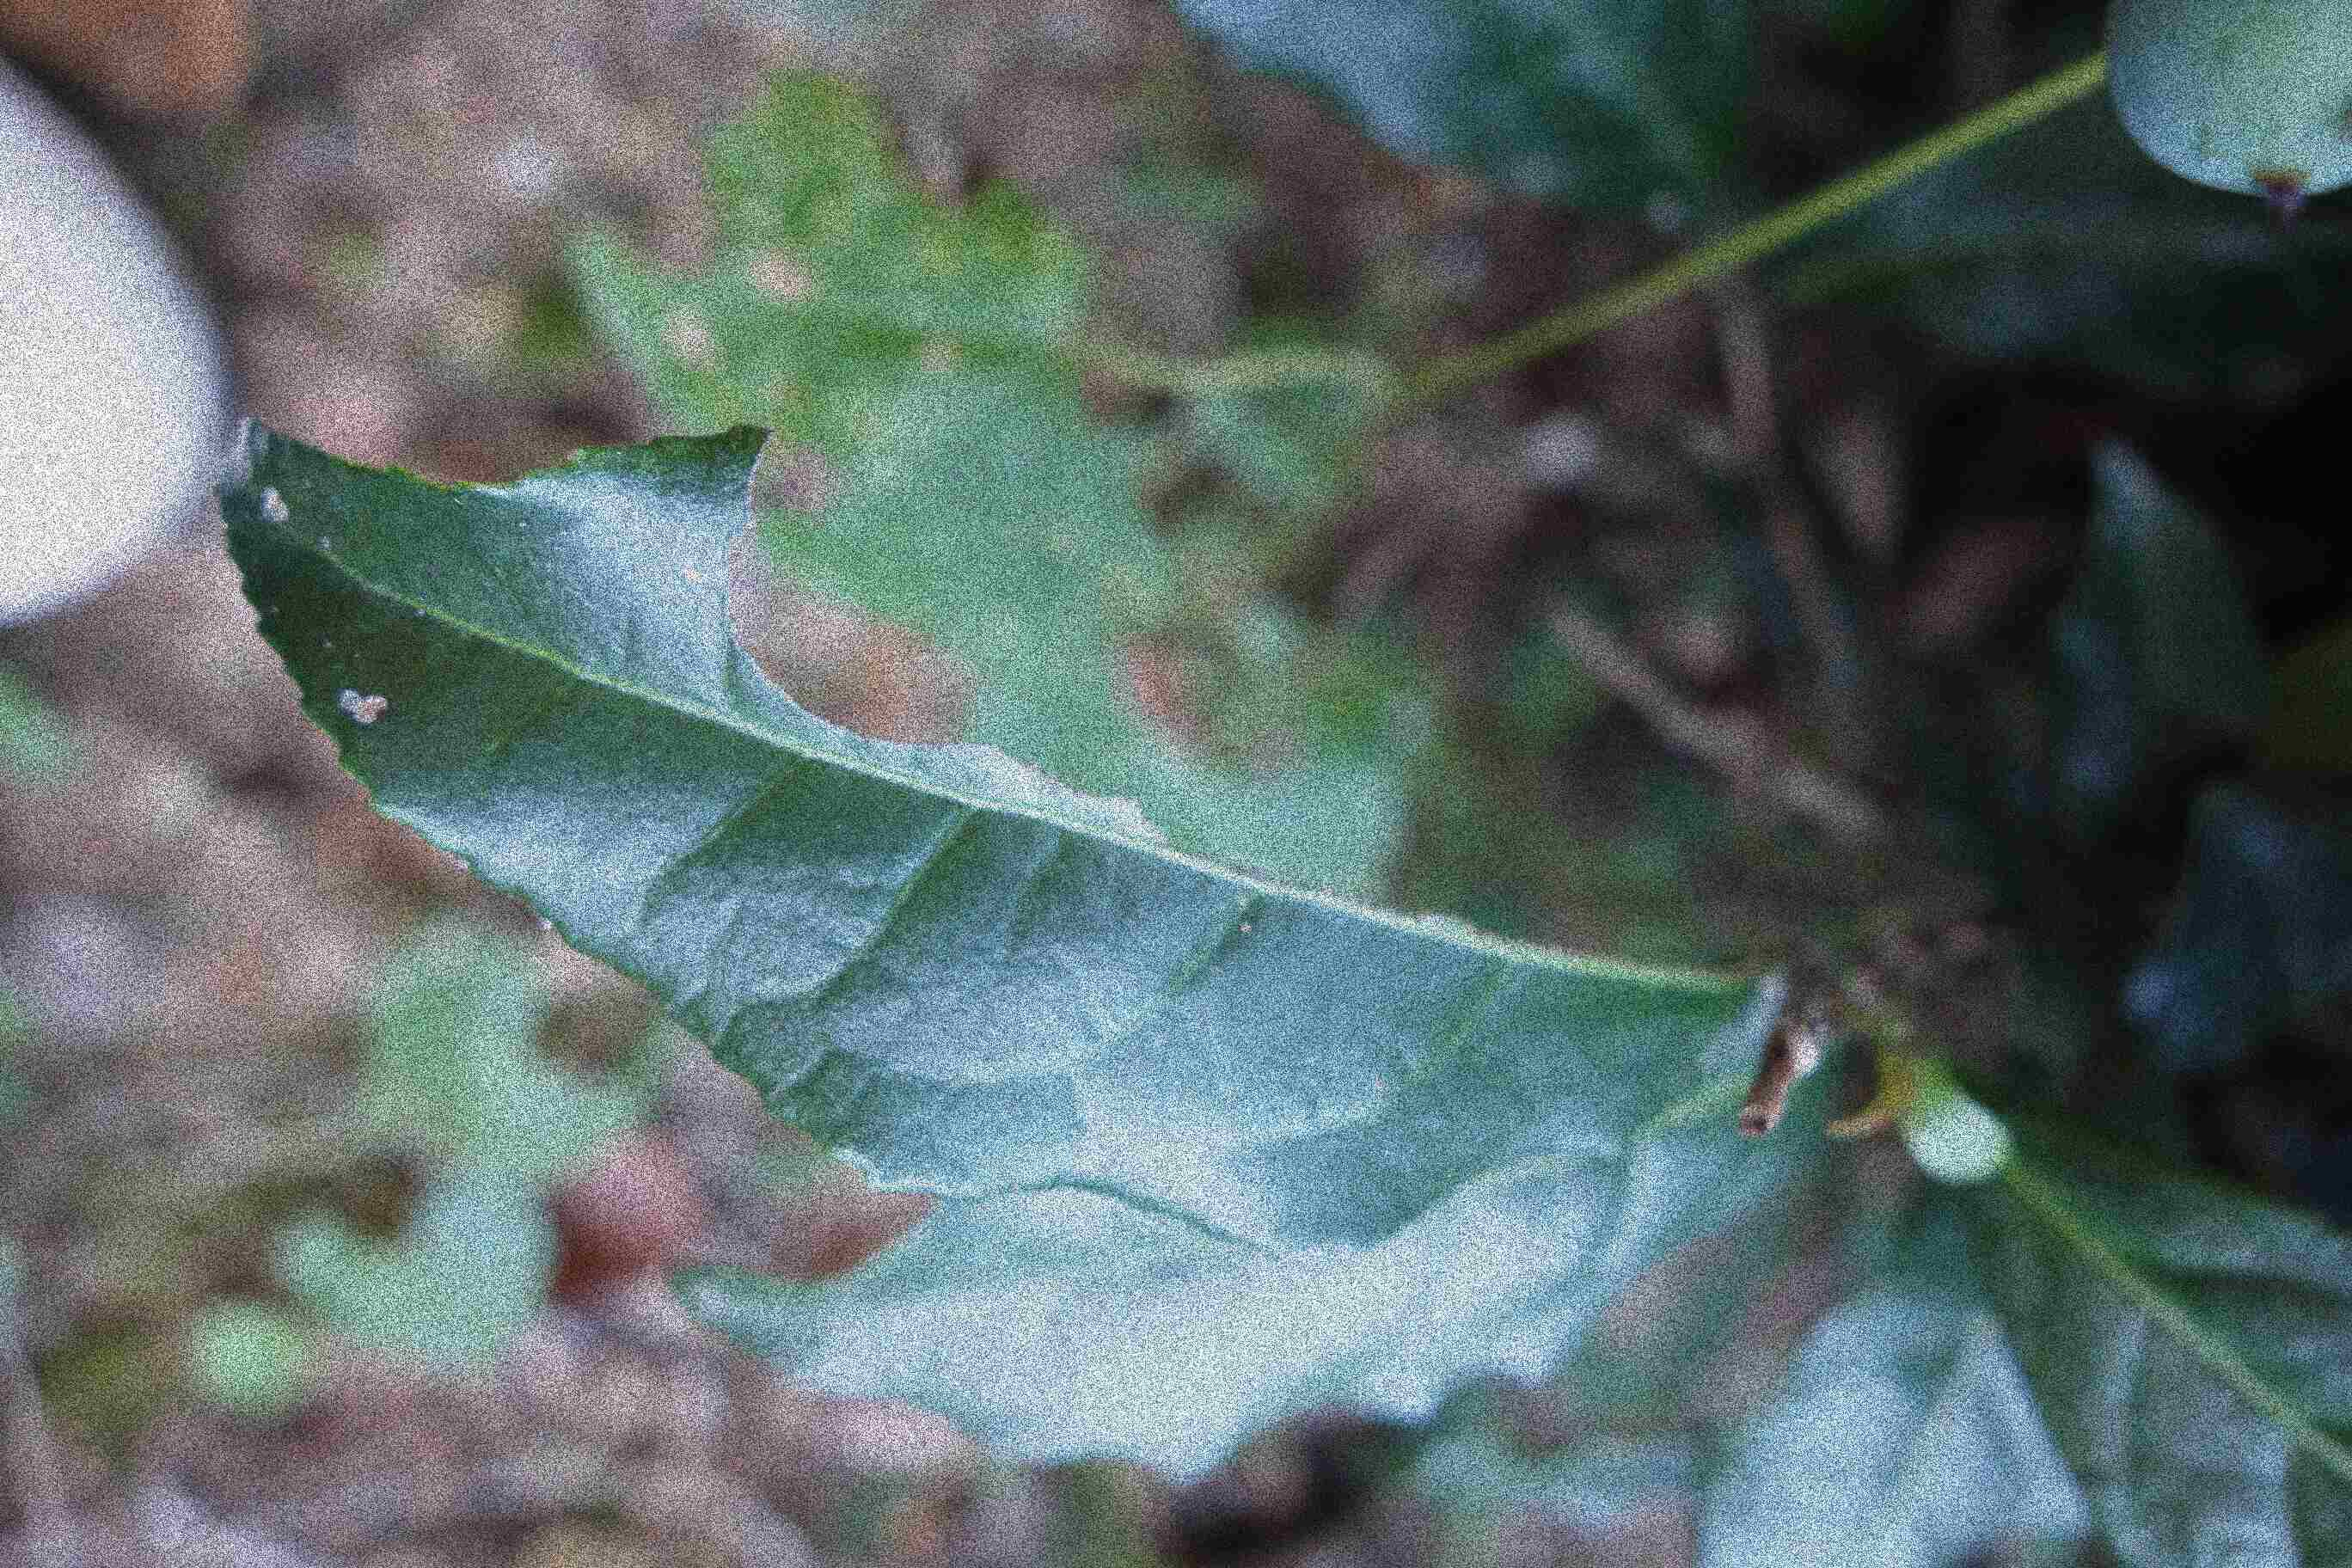chihuo_high: (201, 413, 1787, 1267)
